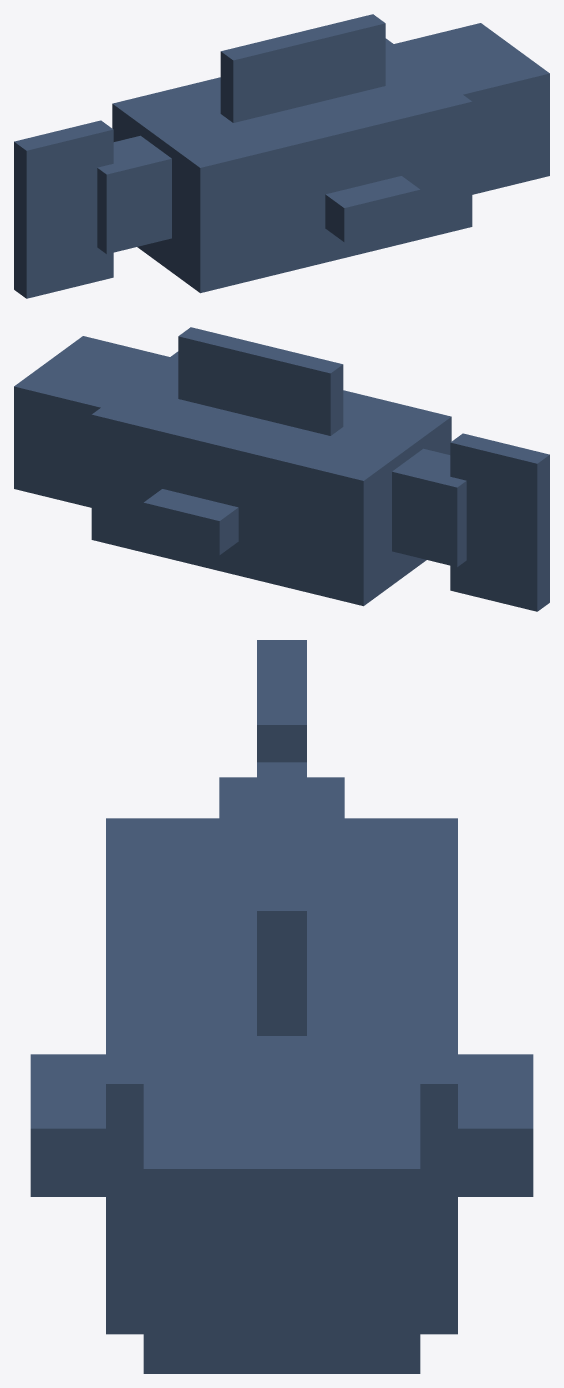
File: fish_squall_bass.glb
3 renders of one model, top to bottom at view 1: azimuth 30°, elevation 25°; view 2: azimuth 150°, elevation 25°; view 3: azimuth 270°, elevation 25°, orthographic. The views are drawn at different scales.
Visible parts, largest first — view 1: species.squall_bass; view 2: species.squall_bass; view 3: species.squall_bass.
Boxes of the visible parts, x1,y1,x2,y2 form: species.squall_bass: (14, 14, 549, 298); species.squall_bass: (14, 327, 549, 611); species.squall_bass: (30, 640, 533, 1373).
Size of the model in its own units: 0.3 by 0.1088 by 0.1319.
